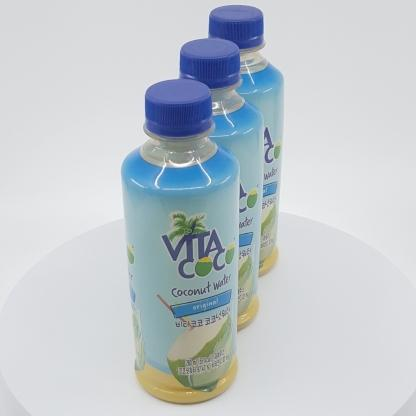----------280ml: (120, 79, 240, 405)
